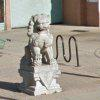Statue: (15, 6, 63, 97)
